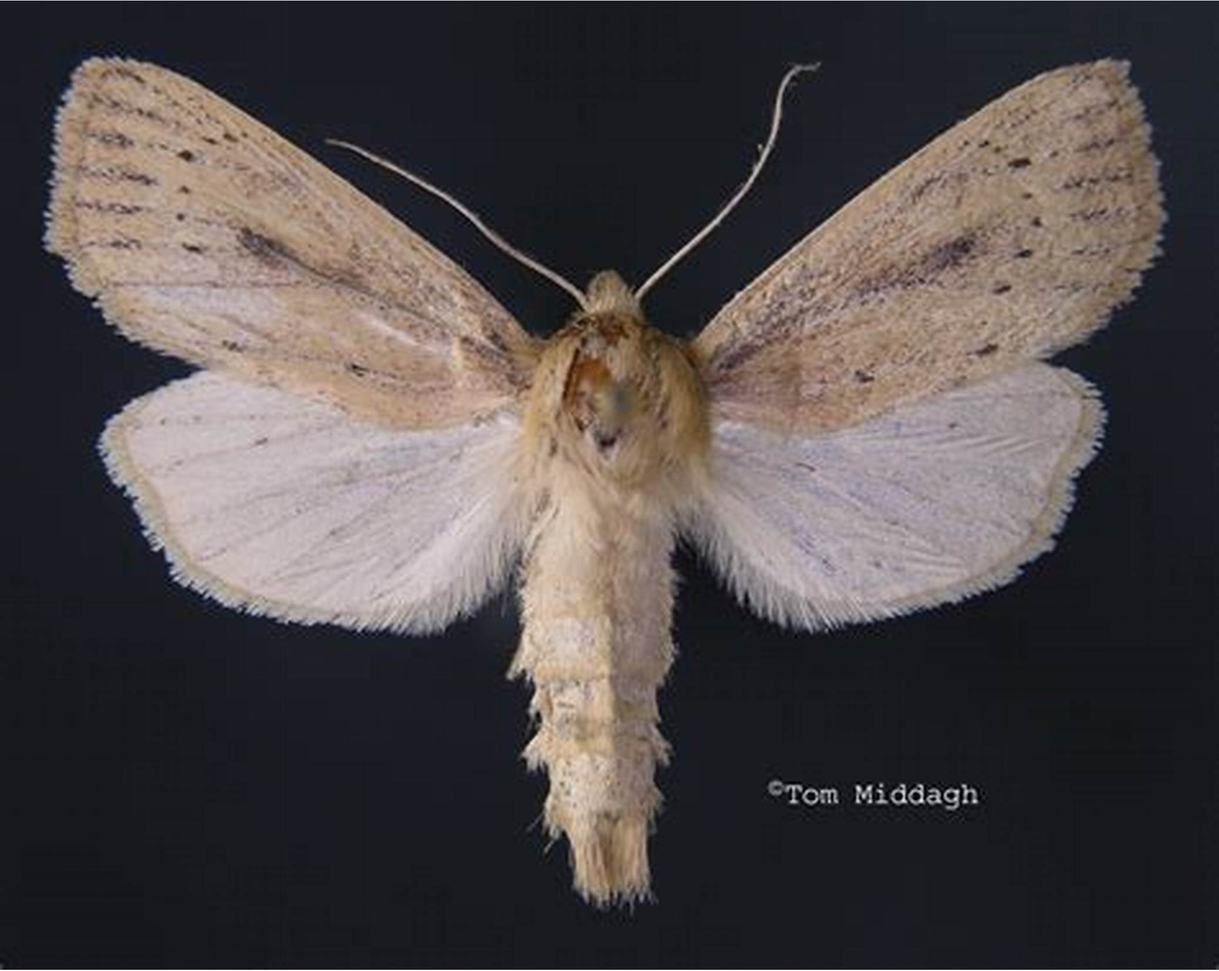Noctuidae: (33, 61, 1163, 906)
